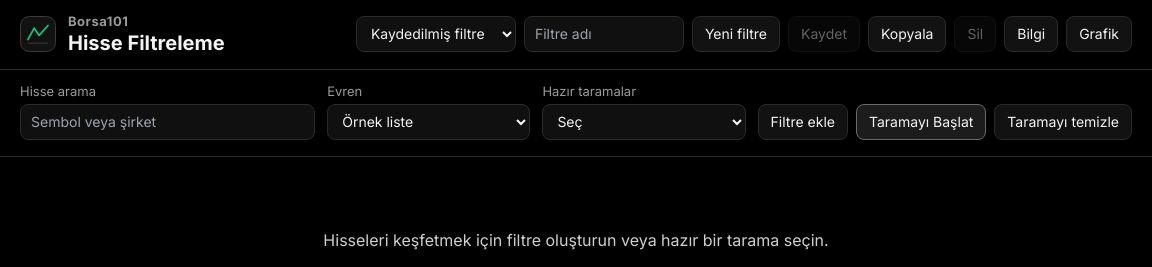
Test case: screener screen › keeps a failed scan apart from an empty result
Step 1. Click the button with test id "screen-run" → (921, 122), box [856,104,986,140]
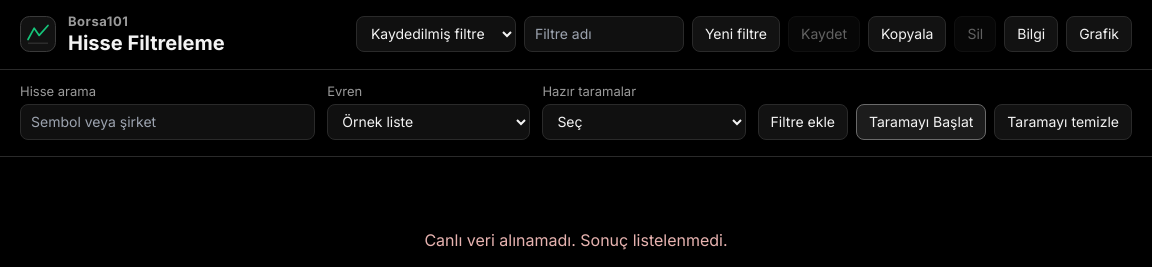
Check: the text with test id "screen-error" shows "Canlı veri alınamadı", box [424,230,728,250]
